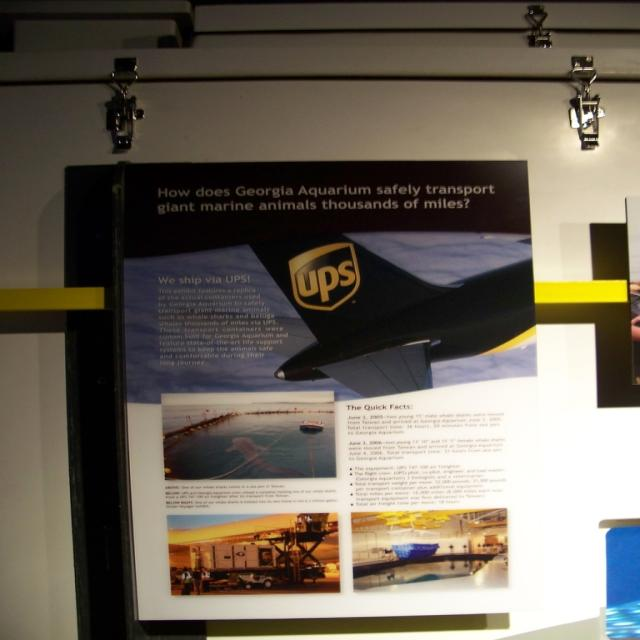ups: (289, 244, 361, 312)
